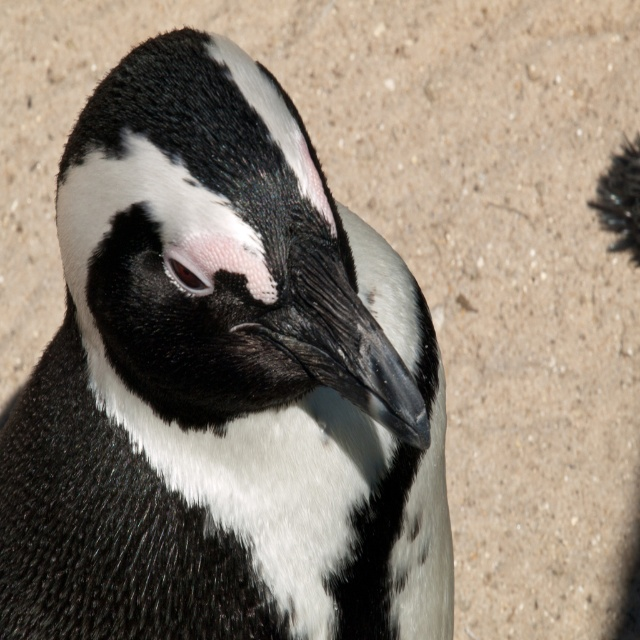Penguin: (46, 42, 437, 484)
